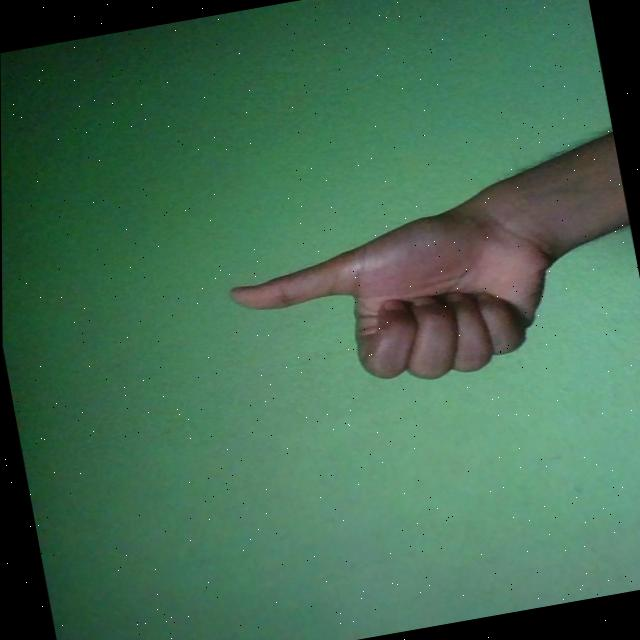Good Job: (222, 195, 574, 412)
